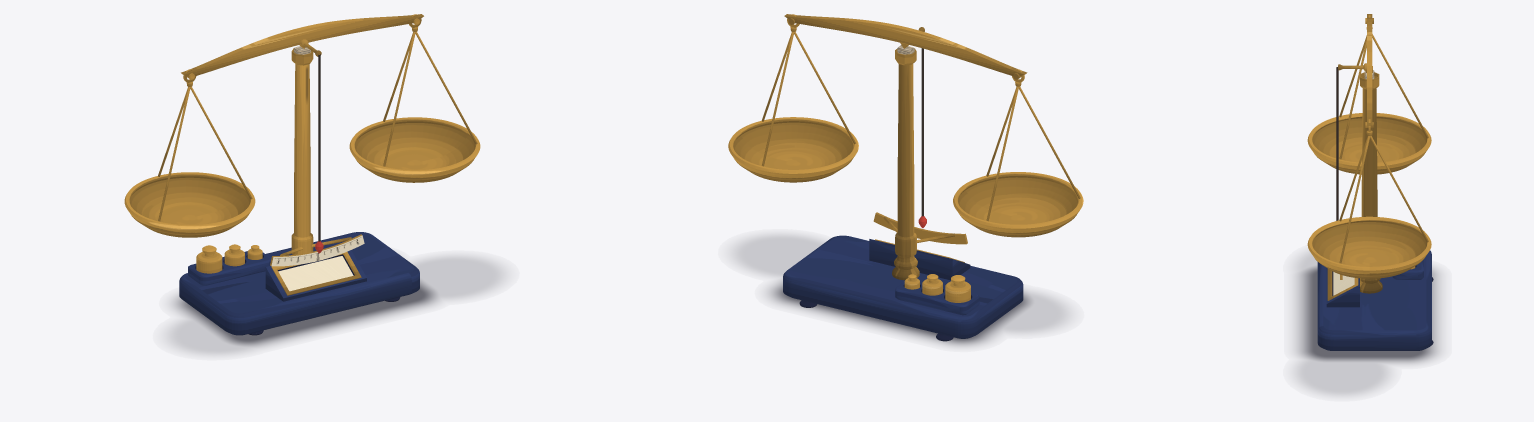
Rendered from balance_meshopt.glb.
The picture shows the model from 3 angles, left to right: view 1: azimuth 30°, elevation 25°; view 2: azimuth 150°, elevation 25°; view 3: azimuth 270°, elevation 25°; orthographic projection. The views are drawn at different scales.
Visible parts, largest first — view 1: body, contact_shadow, pan_left, pan_right, beam, readout, standard_masses, pointer; view 2: body, pan_left, pan_right, contact_shadow, beam, standard_masses, pointer; view 3: body, pan_right, contact_shadow, pan_left, beam, pointer, readout.
Boxes of the visible parts, left/top/right/bottom form: body: left=179, top=64, right=419, bottom=335; contact_shadow: left=171, top=257, right=500, bottom=352; pan_left: left=124, top=69, right=255, bottom=237; pan_right: left=349, top=14, right=480, bottom=182; beam: left=181, top=14, right=423, bottom=79; readout: left=278, top=256, right=353, bottom=291; standard_masses: left=196, top=244, right=262, bottom=273; pointer: left=300, top=39, right=323, bottom=253; body: left=783, top=64, right=1023, bottom=341; pan_left: left=953, top=69, right=1083, bottom=237; pan_right: left=728, top=14, right=858, bottom=182; contact_shadow: left=736, top=236, right=1065, bottom=346; beam: left=784, top=14, right=1027, bottom=79; standard_masses: left=904, top=274, right=970, bottom=302; pointer: left=918, top=27, right=926, bottom=228; body: left=1317, top=88, right=1433, bottom=350; pan_right: left=1307, top=119, right=1431, bottom=278; contact_shadow: left=1296, top=253, right=1438, bottom=393; pan_left: left=1307, top=15, right=1431, bottom=174; beam: left=1365, top=14, right=1373, bottom=127; pointer: left=1336, top=63, right=1366, bottom=220; readout: left=1333, top=272, right=1354, bottom=295.
Size of the model in its own units: 0.52 by 0.323 by 0.34.
Materials: 3 (3 with a texture image).
